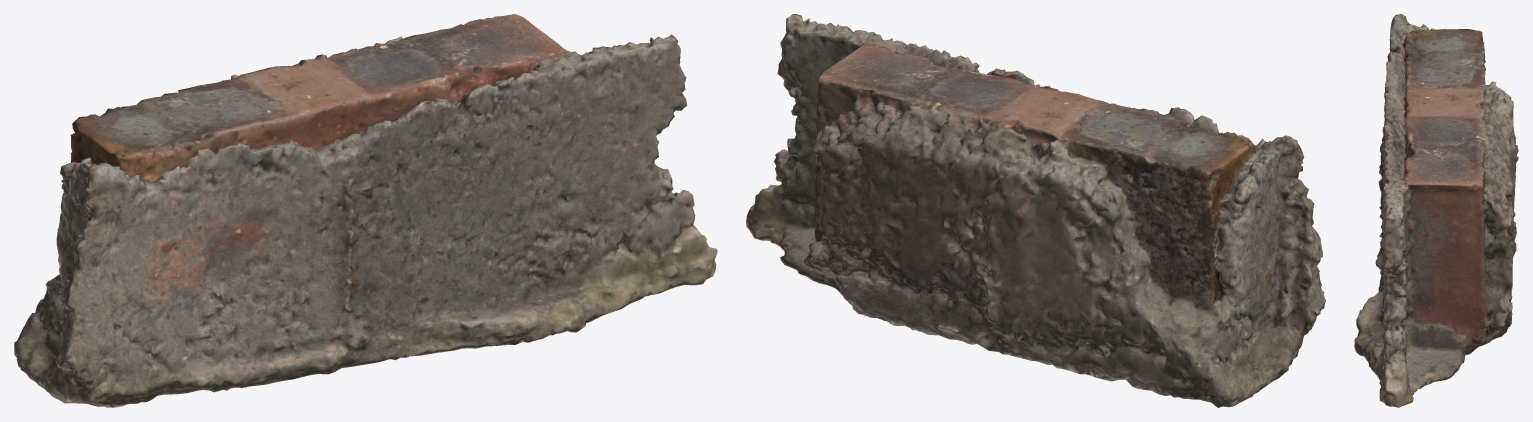
File: PX_Brick_Ruins_20_LOD1.fbx
3 renders of one model, left to right at view 1: azimuth 30°, elevation 25°; view 2: azimuth 150°, elevation 25°; view 3: azimuth 270°, elevation 25°, orthographic. The views are drawn at different scales.
Visible parts, largest first — view 1: PX_Brick_Ruins_20_LOD1; view 2: PX_Brick_Ruins_20_LOD1; view 3: PX_Brick_Ruins_20_LOD1.
Part boxes in pixels (box(x1,y1,x2,y2)): PX_Brick_Ruins_20_LOD1: box(14, 14, 717, 407); PX_Brick_Ruins_20_LOD1: box(746, 14, 1325, 407); PX_Brick_Ruins_20_LOD1: box(1354, 14, 1518, 407).
Bounding box in the file's own units: 38.73 × 14.56 × 11.87.
